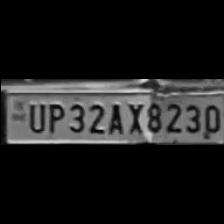0: (200, 100, 222, 136)
2: (84, 100, 106, 136), (162, 99, 182, 135)
3: (64, 100, 84, 134), (182, 100, 200, 136)
8: (142, 100, 162, 136)
A: (104, 100, 124, 136)
P: (43, 100, 62, 134)
U: (22, 100, 44, 134)
X: (124, 100, 144, 136)
